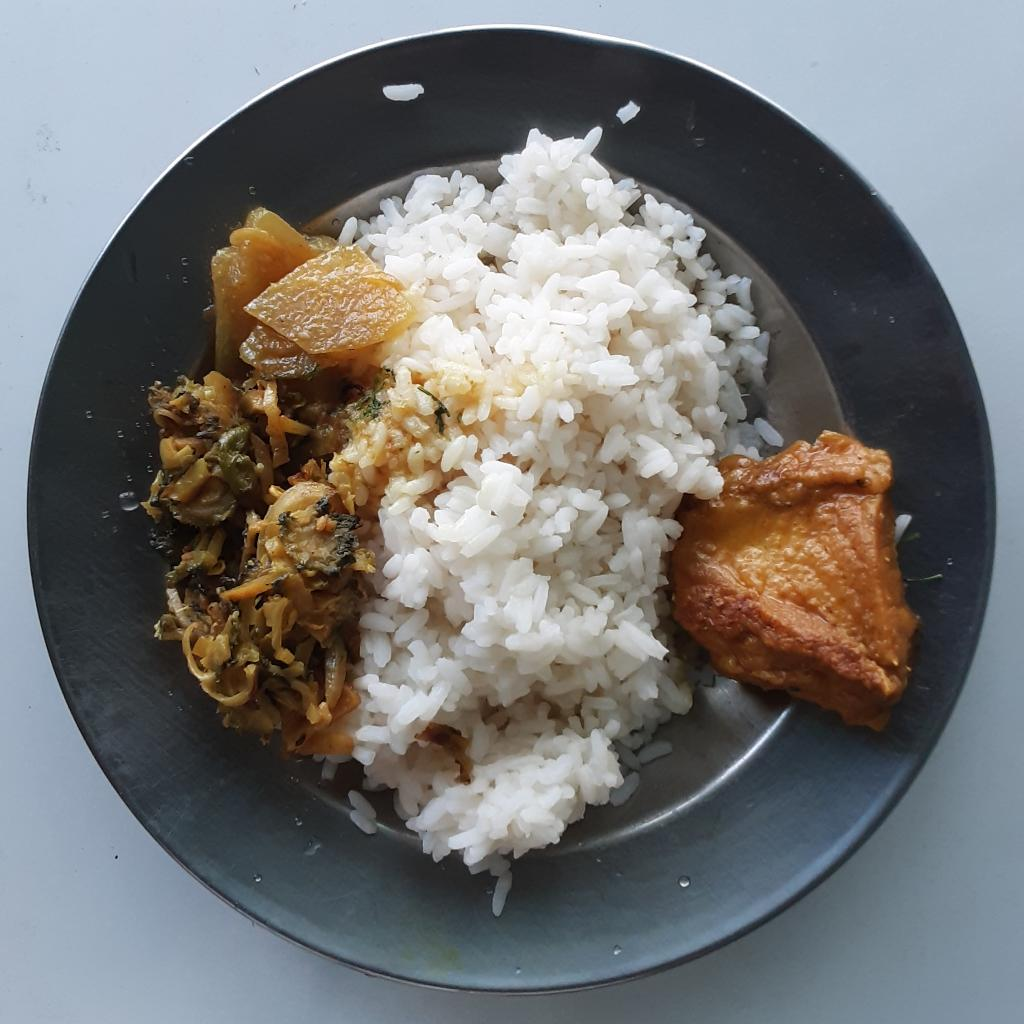dundol: (210, 201, 416, 375)
fish: (671, 427, 924, 729)
korola-vaji: (144, 365, 386, 752)
rice: (314, 122, 786, 917)
